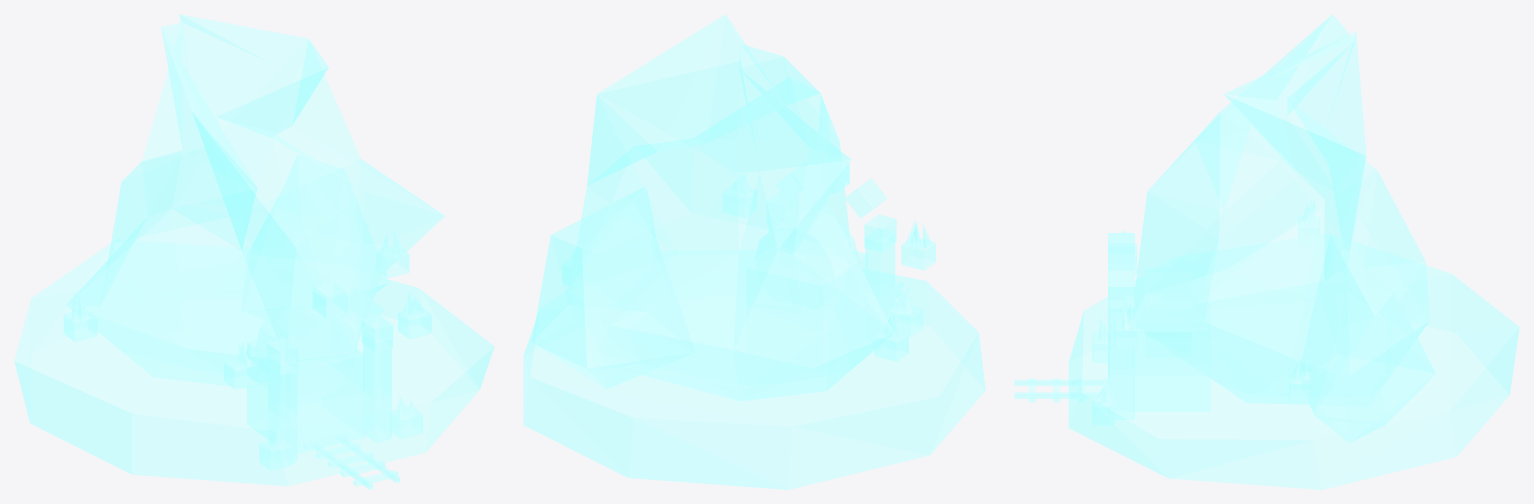
The model's file is GH_Mountain_Emerald.fbx.
The picture shows the model from 3 angles, left to right: view 1: azimuth 30°, elevation 25°; view 2: azimuth 150°, elevation 25°; view 3: azimuth 270°, elevation 25°; orthographic projection. The views are drawn at different scales.
Parts seen in each view (by area): view 1: SM_Mountain_Emerald; view 2: SM_Mountain_Emerald; view 3: SM_Mountain_Emerald.
Part boxes in pixels (left/top/right/bottom): SM_Mountain_Emerald: left=14, top=14, right=494, bottom=489; SM_Mountain_Emerald: left=523, top=14, right=985, bottom=489; SM_Mountain_Emerald: left=1014, top=14, right=1519, bottom=489.
Bounding box in the file's own units: 10.33 × 8.69 × 11.31.
